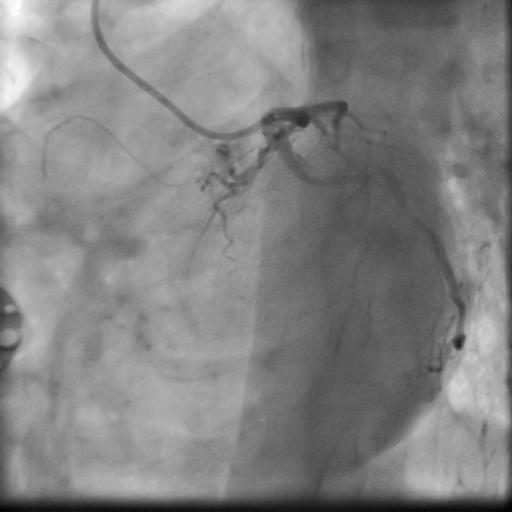Stenosis: (400, 204, 426, 234)
